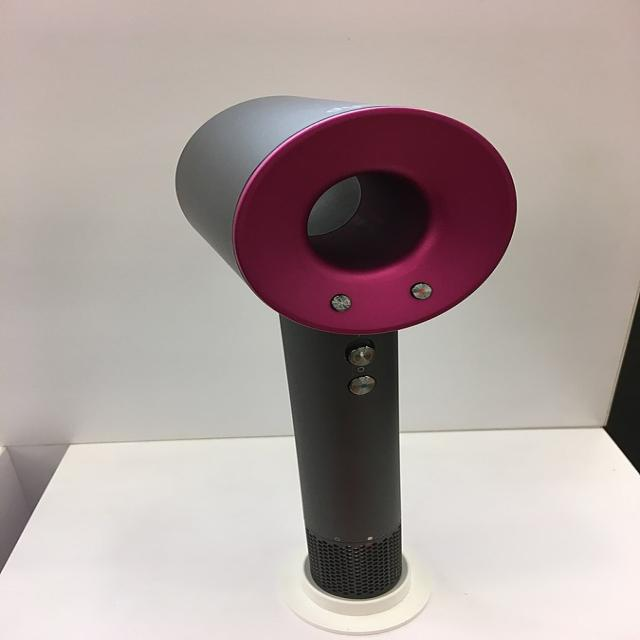dryer: (174, 93, 522, 603)
